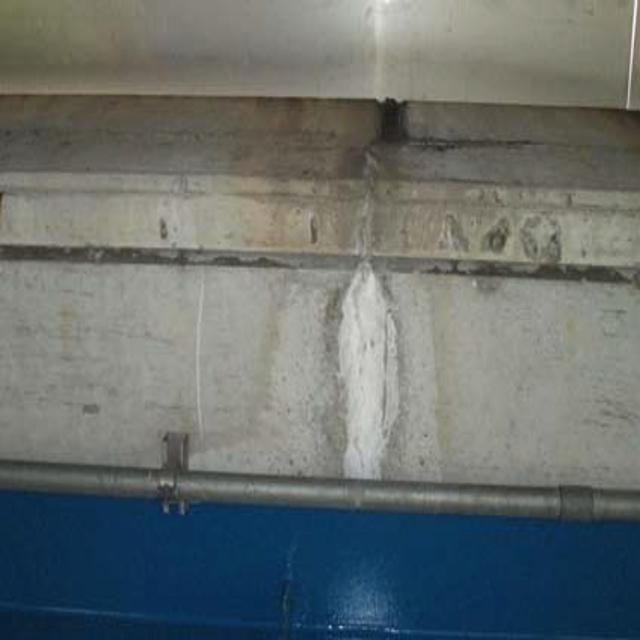freelime: (323, 251, 407, 493)
